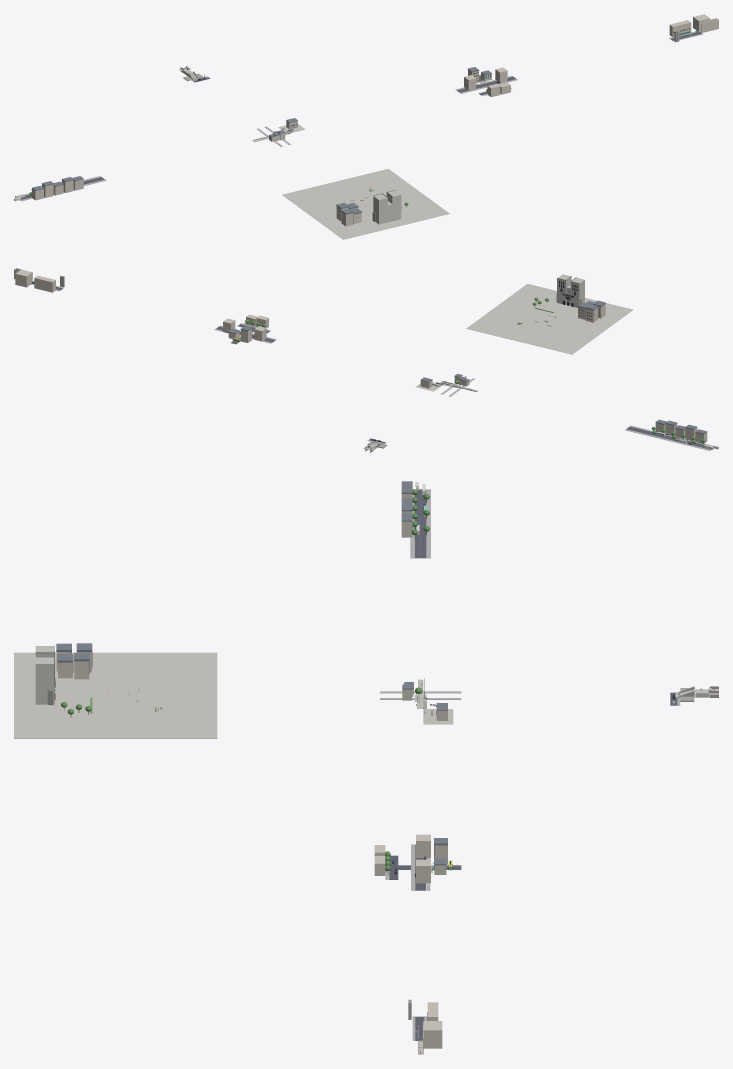
3 renders of one model, top to bottom at view 1: azimuth 30°, elevation 25°; view 2: azimuth 150°, elevation 25°; view 3: azimuth 270°, elevation 25°, orthographic. The views are drawn at different scales.
Visible parts, largest first — view 1: s01_ground; view 2: s01_ground, towerL; view 3: s01_ground.
Part boxes in pixels (x1=…): s01_ground: x1=282, y1=169, x2=449, y2=239; s01_ground: x1=466, y1=284, x2=633, y2=354; towerL: x1=570, y1=278, x2=584, y2=307; s01_ground: x1=14, y1=652, x2=217, y2=738.
Bounding box in the file's own units: 993 × 35.62 × 520.
